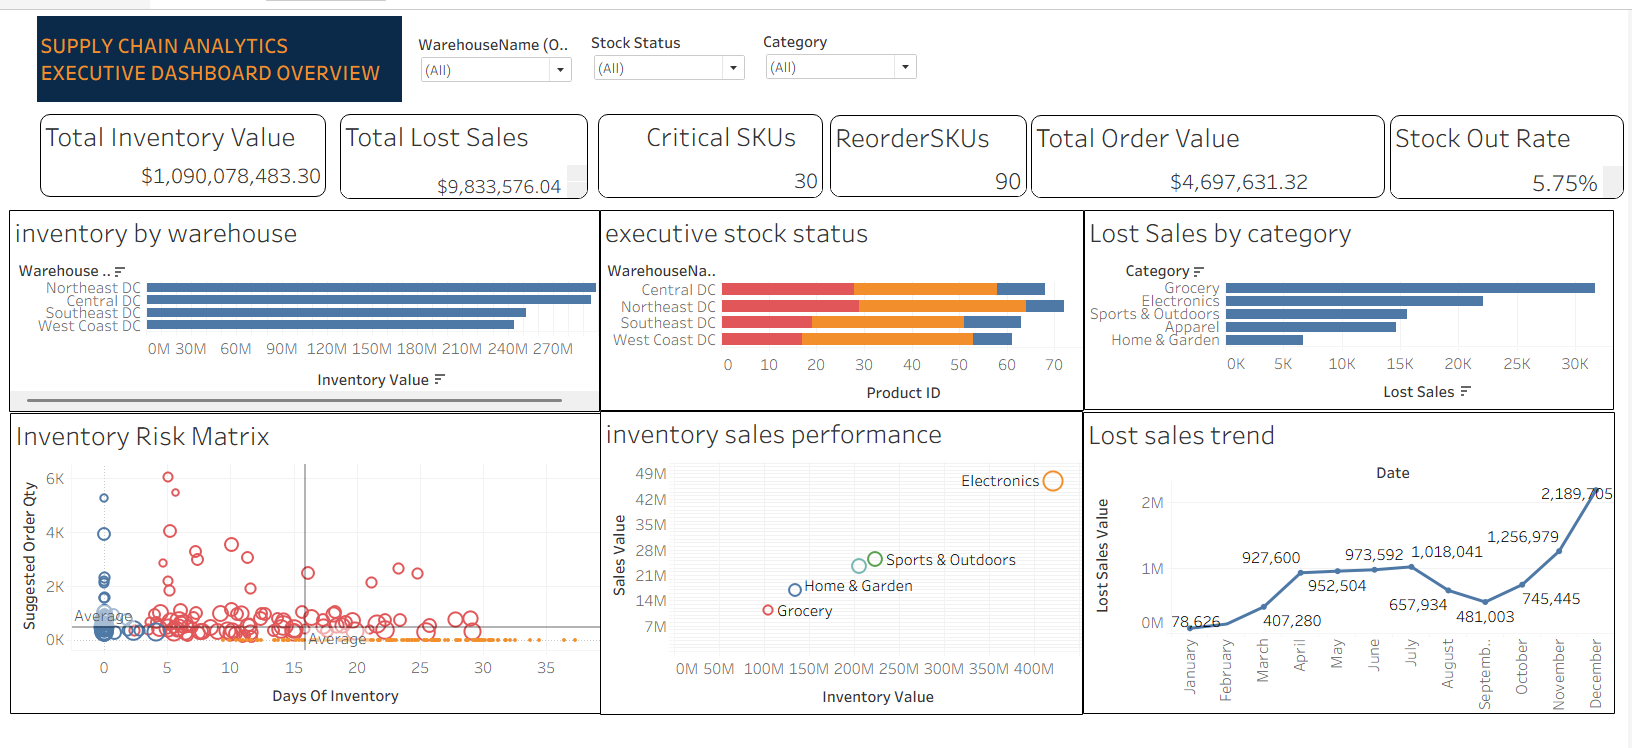

Layout of this report page (visuals, bound fields, positions):
{"tool":"tableau","page":{"name":"Dashboard 1","canvas":[1000,1000],"units":"permille","ordinal":0},"visuals":[{"type":"text","box":[22.9,7,224.5,108.1]},{"type":"filter","title":"Inventory Risk Matrix","param":"[federated.1yzdc2c00ja9bw13nnmf20dqdd4y].[none:Category:nk]","box":[468.4,26.4,96.5,62.7]},{"type":"filter","title":"Inventory Risk Matrix","param":"[federated.1yzdc2c00ja9bw13nnmf20dqdd4y].[none:StockStatus:nk]","box":[362.9,27.6,96.5,62.7]},{"type":"filter","title":"Inventory Risk Matrix","param":"[federated.1yzdc2c00ja9bw13nnmf20dqdd4y].[none:WarehouseName (Optimization!Data)","box":[256.9,30.1,96.5,62.7]},{"type":"worksheet","title":"Exec-Inventoryvalue","mark":"Text","box":[24.6,130.5,175.7,104.1]},{"type":"worksheet","title":"Exec LostSales","mark":"Automatic","box":[208.8,130.5,152.3,106.7]},{"type":"worksheet","title":"ExecCriticalSKUS","mark":"Text","box":[367.3,130.5,138.2,105.4]},{"type":"worksheet","title":"ReorderSKUs","mark":"Automatic","box":[509.8,131.7,121,102.9]},{"type":"worksheet","title":"exec-totalordervalue","mark":"Automatic","box":[633.3,131.7,217.4,104.1]},{"type":"worksheet","title":"exec stockoutrate","mark":"Automatic","box":[853.8,131.7,143.7,105.4]},{"type":"worksheet","title":"inventory by warehouse  ","mark":"Automatic","rows":["WarehouseName"],"cols":["InventoryValue"],"box":[5.5,250.9,363,253.5]},{"type":"worksheet","title":"executive stock status","mark":"Automatic","rows":["WarehouseName (Optimization!Data)"],"cols":["ProductID"],"box":[368.3,250.9,297.4,252.2]},{"type":"worksheet","title":"Lost Sales by category","mark":"Automatic","rows":["Category"],"cols":["LostSales"],"box":[665.9,250.9,325.6,250.9]},{"type":"worksheet","title":"inventory sales performance","mark":"Automatic","rows":["SalesValue"],"cols":["InventoryValue"],"box":[368.6,503.1,296.7,381.4]},{"type":"worksheet","title":"Lost sales trend","mark":"Line","rows":["LostSalesValue"],"cols":["Date"],"box":[665.2,504.4,326.8,378.9]},{"type":"worksheet","title":"Inventory Risk Matrix","mark":"Automatic","rows":["SuggestedOrderQty"],"cols":["DaysOfInventory"],"box":[6.1,505.7,363,377.7]}]}

Visuals, with their boxes on the dashboard's canvas, which has no fixed pixel size, in thousandths of its width and height (x1, y1, x2, y2). These are canvas units, not pixel positions in the 1632x748 screenshot, which may show the page scaled, cropped or inside an application window:
text: [23,7,247,115]
"Inventory Risk Matrix" filter: [468,26,565,89]
"Inventory Risk Matrix" filter: [363,28,459,90]
"Inventory Risk Matrix" filter: [257,30,353,93]
"Exec-Inventoryvalue" worksheet (Text marks): [25,130,200,235]
"Exec LostSales" worksheet: [209,130,361,237]
"ExecCriticalSKUS" worksheet (Text marks): [367,130,506,236]
"ReorderSKUs" worksheet: [510,132,631,235]
"exec-totalordervalue" worksheet: [633,132,851,236]
"exec stockoutrate" worksheet: [854,132,998,237]
"inventory by warehouse  " worksheet: [6,251,368,504]
"executive stock status" worksheet: [368,251,666,503]
"Lost Sales by category" worksheet: [666,251,992,502]
"inventory sales performance" worksheet: [369,503,665,884]
"Lost sales trend" worksheet (Line marks): [665,504,992,883]
"Inventory Risk Matrix" worksheet: [6,506,369,883]
